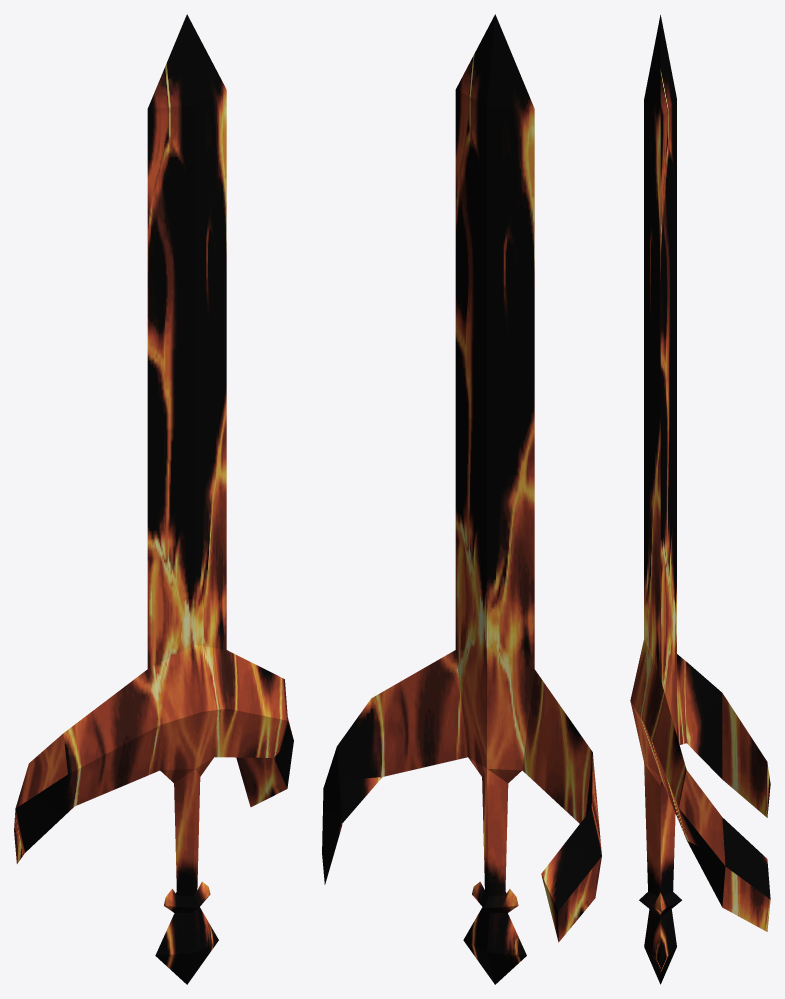
File: wuqi5.FBX
The picture shows the model from 3 angles, left to right: view 1: azimuth 30°, elevation 25°; view 2: azimuth 150°, elevation 25°; view 3: azimuth 270°, elevation 25°; orthographic projection.
Visible parts, largest first — view 1: 对象001; view 2: 对象001; view 3: 对象001.
Boxes of the visible parts, box(x1,y1,x2,y2) form: 对象001: box(14, 14, 293, 984); 对象001: box(322, 14, 601, 984); 对象001: box(630, 15, 770, 984).
Size of the model in its own units: 0.2558 by 0.8519 by 0.1116.
